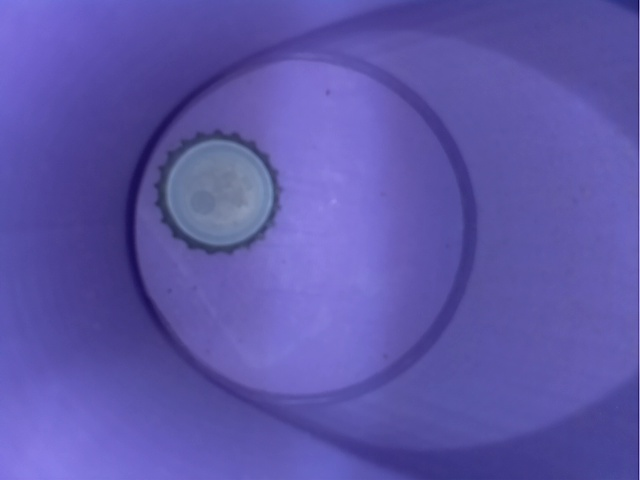capsule: (139, 117, 306, 262)
